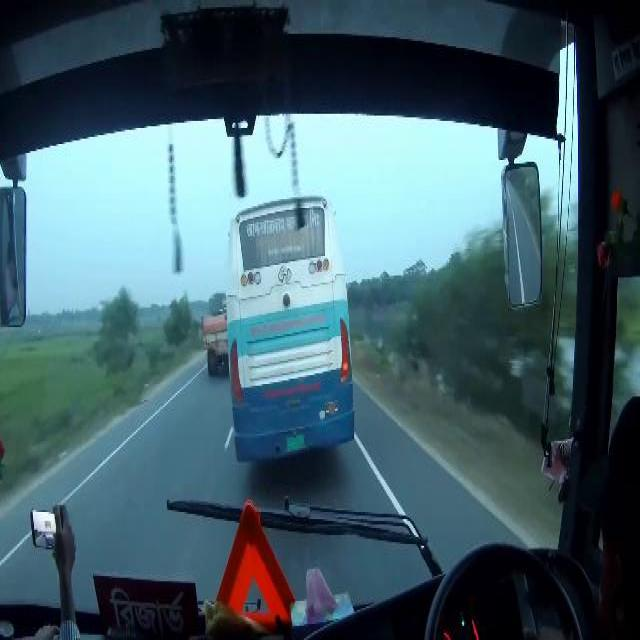vehicle: (227, 202, 355, 465), (203, 305, 226, 376)
